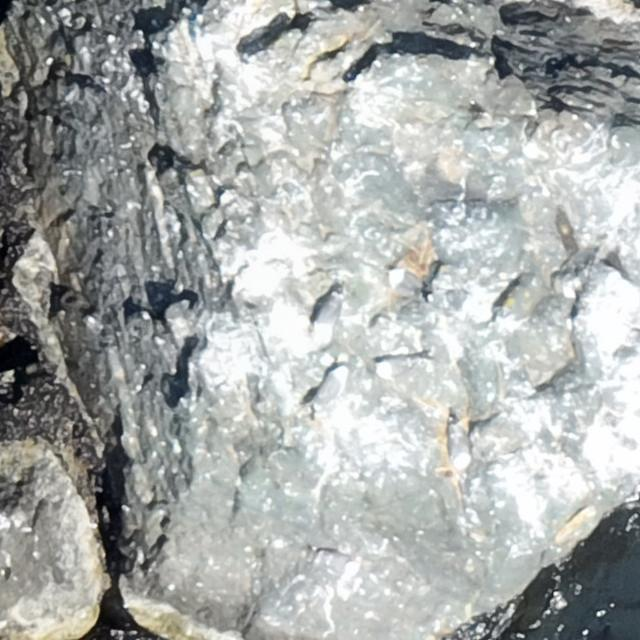umineko: (309, 286, 351, 352), (307, 366, 348, 415), (378, 348, 427, 382), (388, 266, 432, 300), (445, 417, 471, 472)
